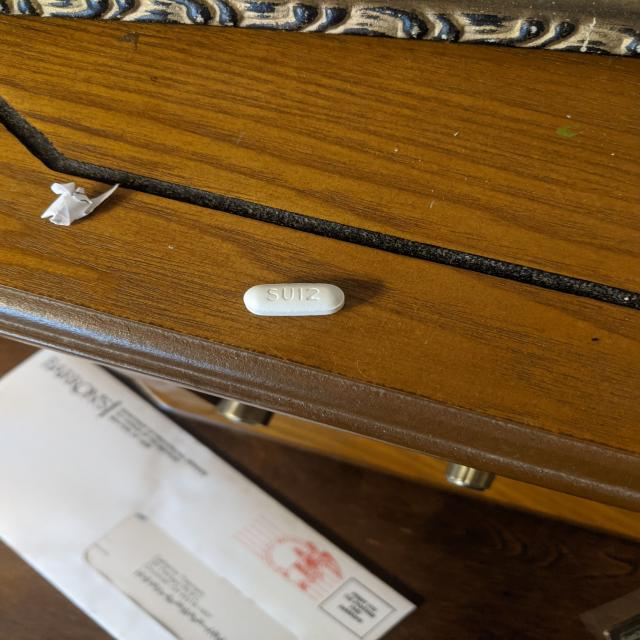non-organic waste: (242, 282, 346, 317)
